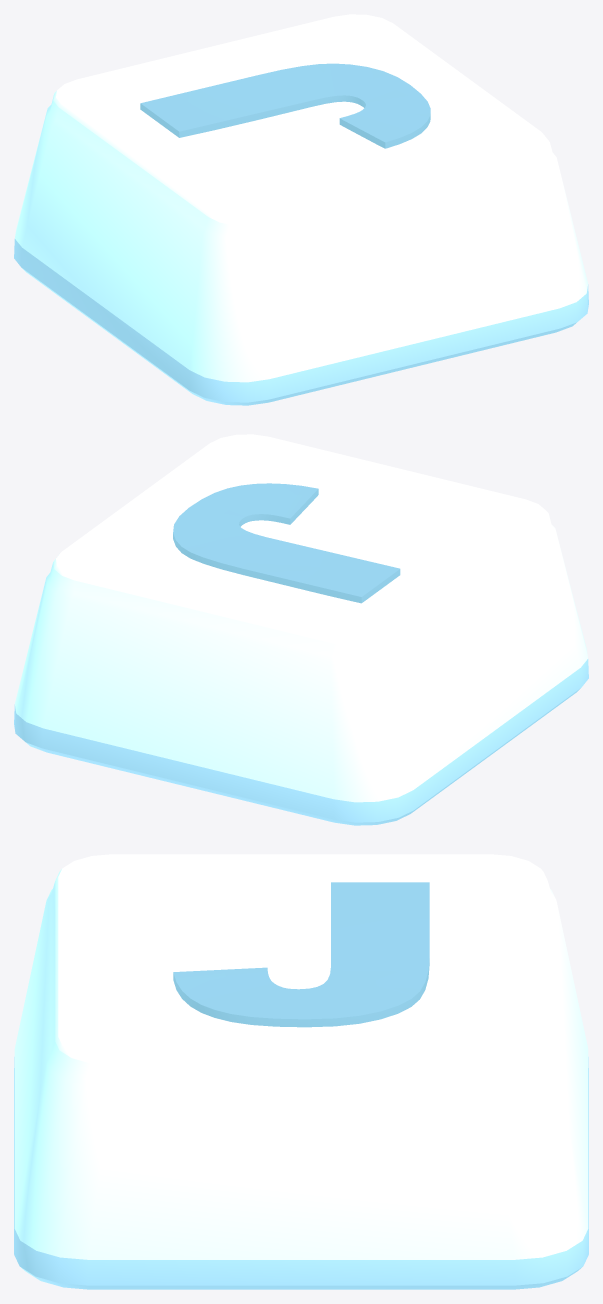
The model's file is props__Key_J.glb.
3 renders of one model, top to bottom at view 1: azimuth 30°, elevation 25°; view 2: azimuth 150°, elevation 25°; view 3: azimuth 270°, elevation 25°, orthographic. The views are drawn at different scales.
Parts seen in each view (by area): view 1: Key_J; view 2: Key_J; view 3: Key_J.
Boxes of the visible parts, left/top/right/bottom form: Key_J: left=14, top=14, right=588, bottom=405; Key_J: left=14, top=434, right=588, bottom=825; Key_J: left=14, top=854, right=588, bottom=1289.
Bounding box in the file's own units: 3.9 × 1.65 × 3.9.
